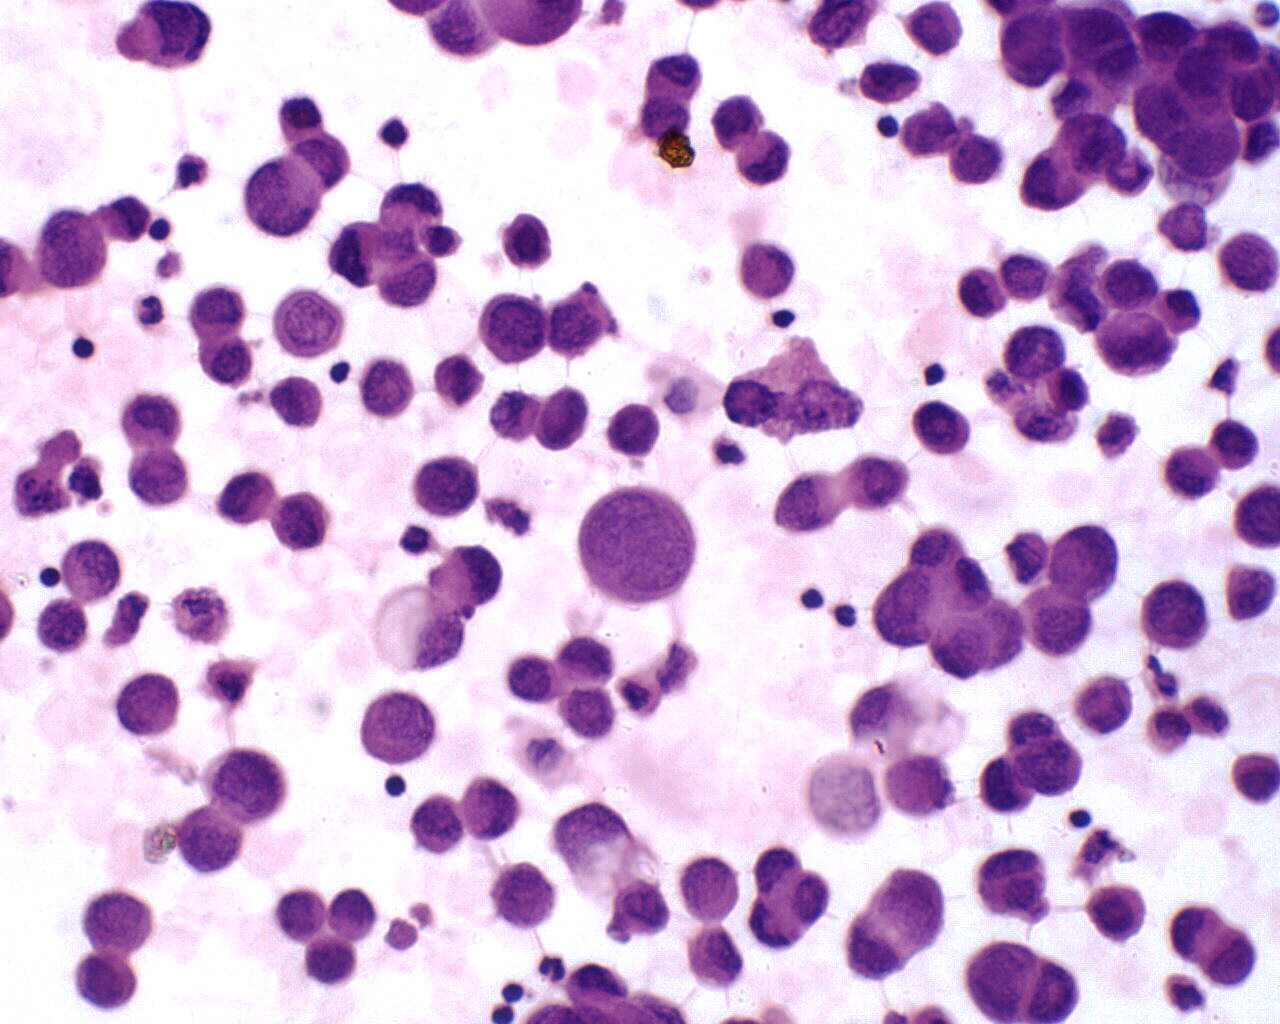ab: (575, 483, 697, 608), (204, 745, 290, 827), (31, 206, 111, 290), (242, 155, 322, 237), (1047, 519, 1120, 602), (487, 856, 563, 934), (359, 686, 438, 762), (1097, 308, 1179, 379), (1021, 586, 1095, 659), (1139, 576, 1209, 652), (475, 292, 546, 365), (410, 455, 485, 523), (114, 668, 181, 743), (1081, 883, 1157, 950), (82, 890, 155, 954), (1213, 228, 1280, 297), (74, 948, 141, 1016), (126, 444, 196, 509), (375, 253, 442, 315), (271, 489, 333, 554), (1071, 668, 1130, 737), (897, 1, 965, 59), (408, 790, 463, 858), (912, 396, 974, 457), (356, 359, 415, 421), (706, 89, 761, 153)
lymph: (66, 330, 99, 363), (866, 107, 902, 137), (144, 212, 176, 245)
neutro: (129, 293, 169, 327), (827, 600, 866, 631), (534, 948, 566, 983)
